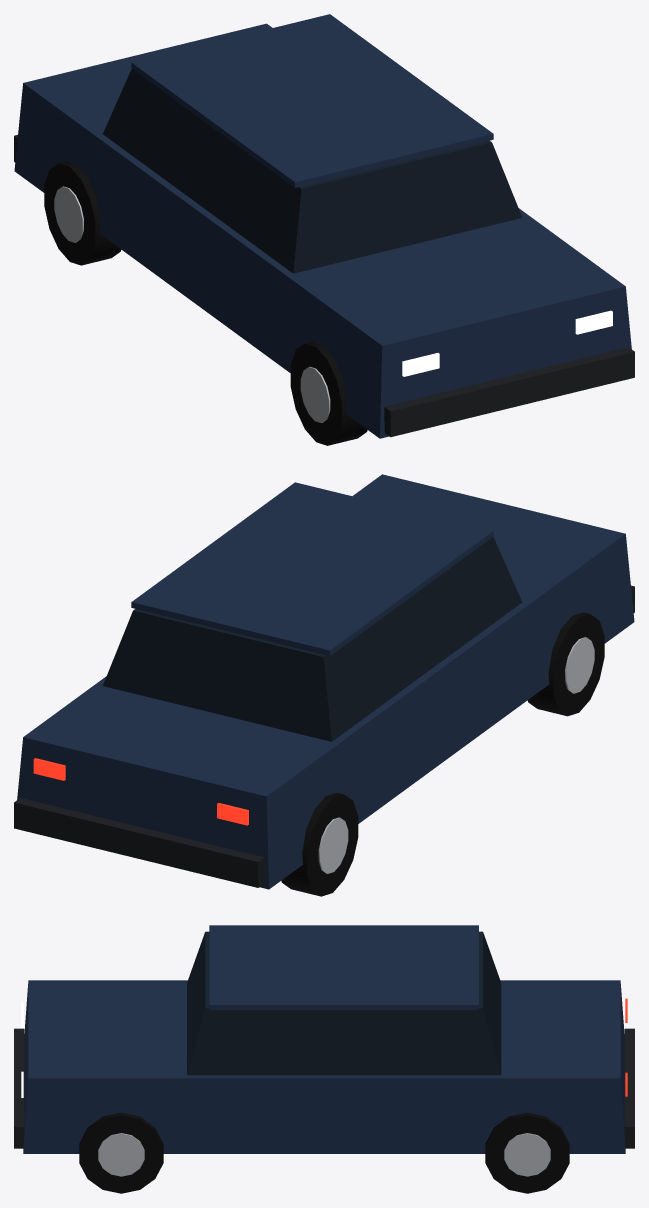
Rendered from sedan-3.glb.
The picture shows the model from 3 angles, top to bottom: view 1: azimuth 30°, elevation 25°; view 2: azimuth 150°, elevation 25°; view 3: azimuth 270°, elevation 25°; orthographic projection. The views are drawn at different scales.
Size of the model in its own units: 1.93 by 1.48 by 4.74.
